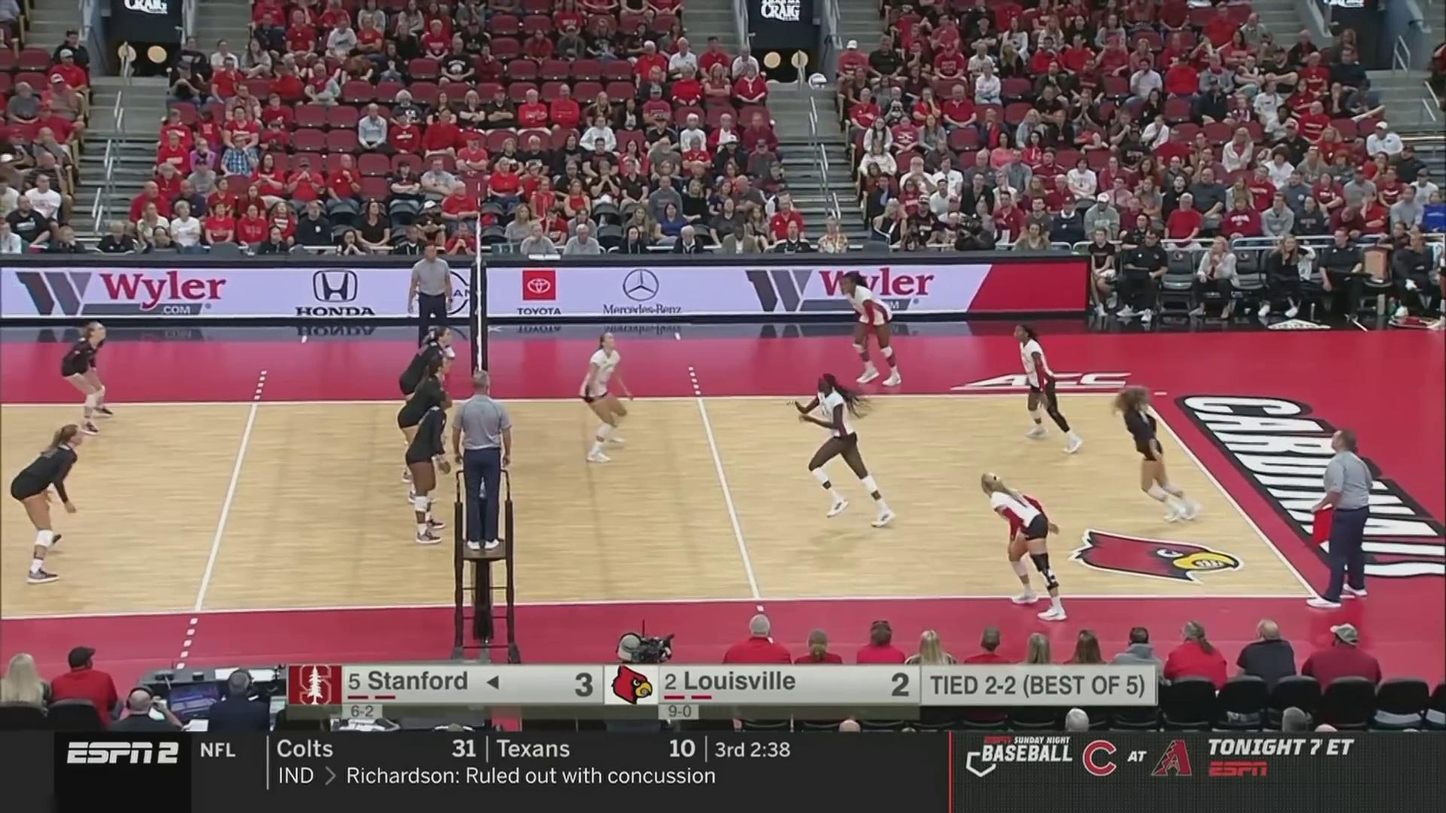player: (792, 373, 894, 529), (977, 471, 1064, 620), (11, 424, 86, 585), (1117, 387, 1202, 522), (1011, 320, 1083, 455), (398, 356, 453, 509), (576, 329, 638, 462), (839, 270, 906, 391), (405, 389, 455, 548), (400, 326, 454, 458), (58, 324, 114, 433)
refree: (1310, 424, 1376, 611), (453, 373, 513, 549), (407, 245, 455, 362)
